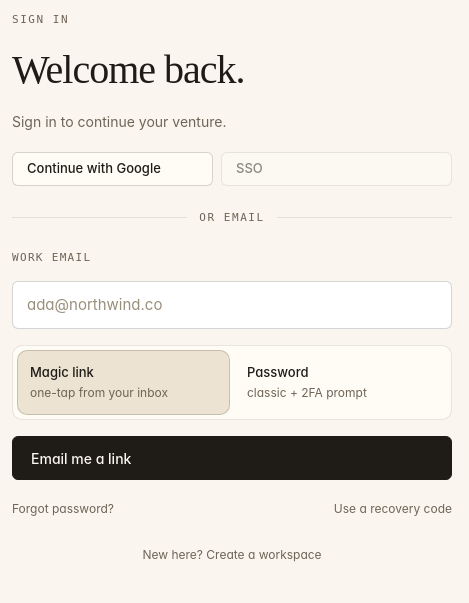
Test: phase 03 · SignIn › rejects an invalid email with the .shake error
The image size is (469, 603).
Type "not-an-email" into the field labelled "Work email" at point(232, 304), box [12,280,452,328]
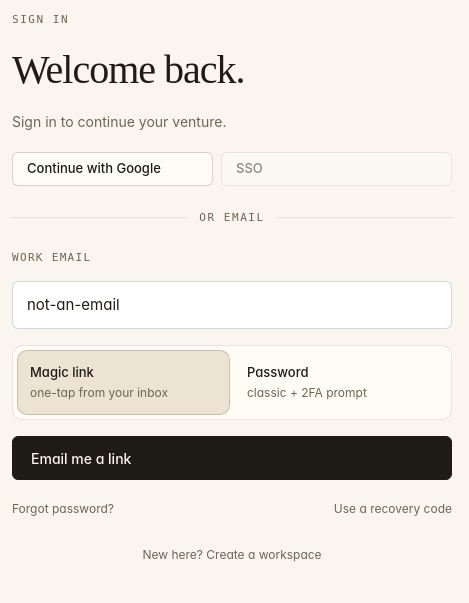
Submit the form named "Email me a link", box [12,250,452,480]
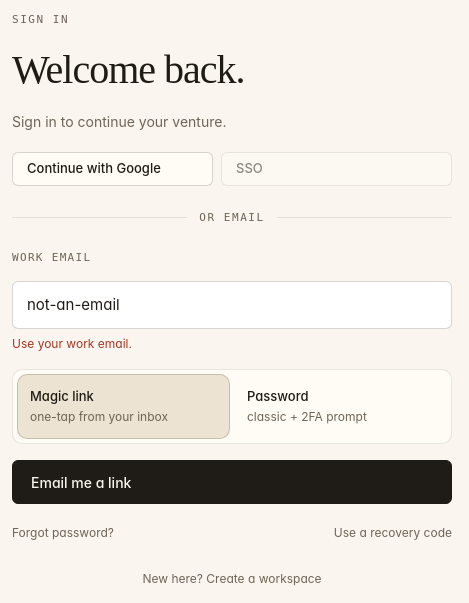
Expected: the text "Use your work email." is shown, [12,336,132,350]
